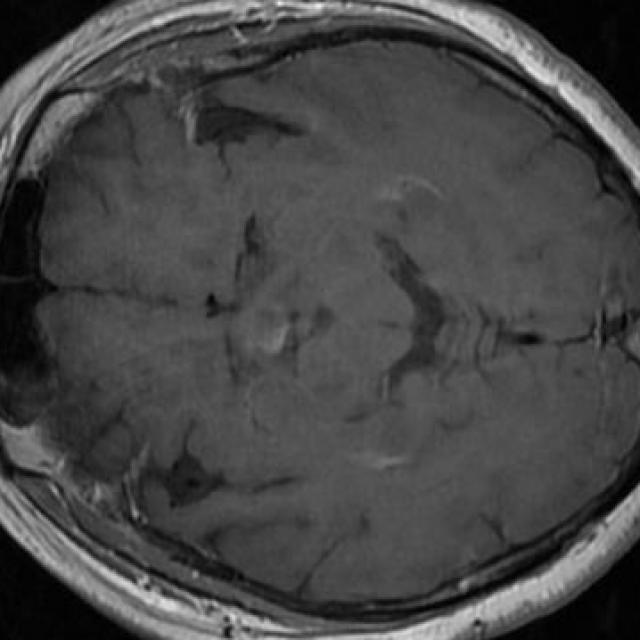pituitary: (226, 305, 283, 358)
